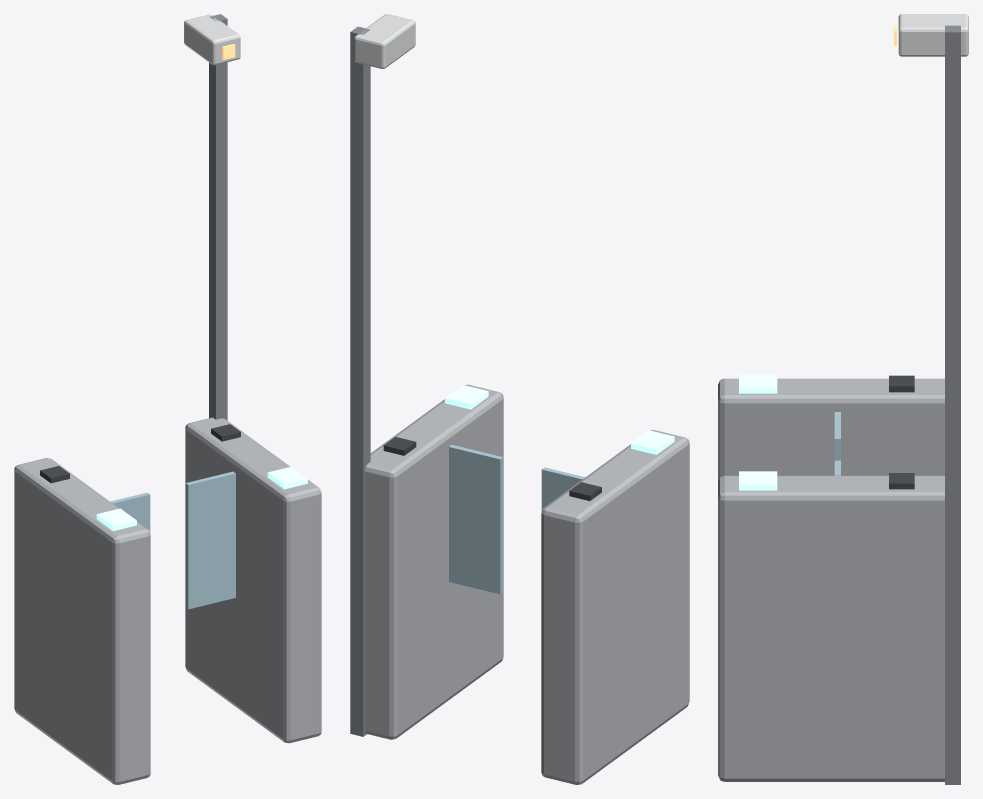
The model's file is access.fbx.
The picture shows the model from 3 angles, left to right: view 1: azimuth 30°, elevation 25°; view 2: azimuth 150°, elevation 25°; view 3: azimuth 270°, elevation 25°; orthographic projection. The views are drawn at different scales.
Visible parts, largest first — view 1: access; view 2: access; view 3: access.
Boxes of the visible parts, box(x1,y1,x2,y2) form: access: box(14, 14, 321, 784); access: box(350, 14, 689, 784); access: box(718, 14, 968, 784).
Size of the model in its own units: 0.885 by 2.6 by 0.785.
